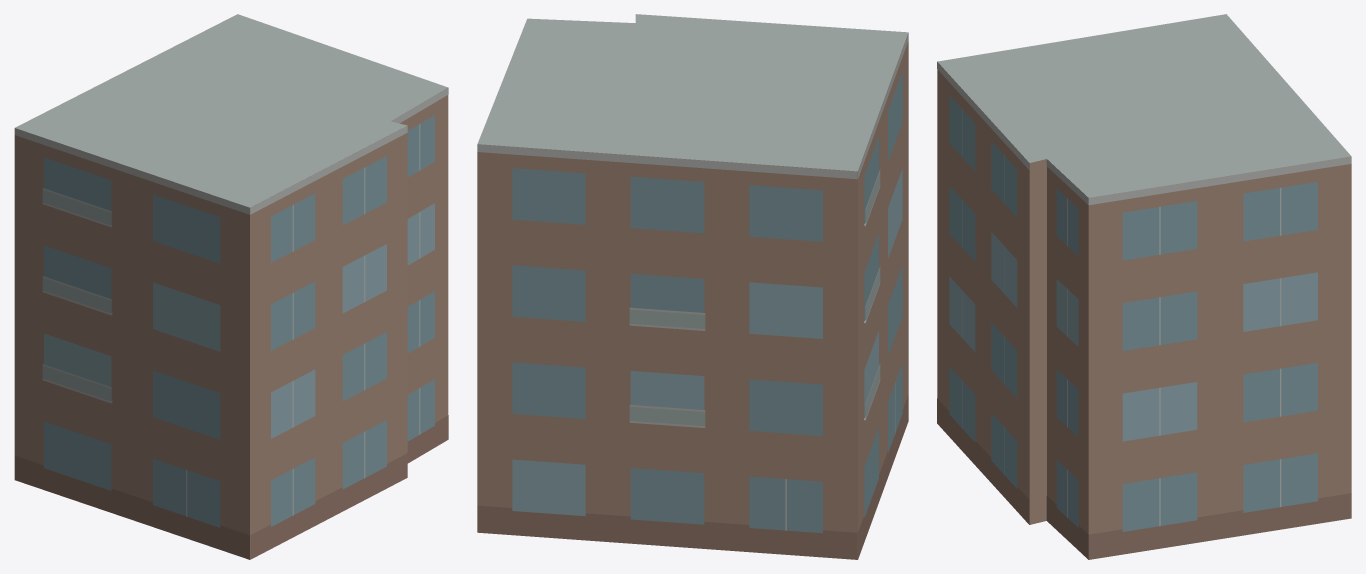
The model's file is survey-upis-32864793.glb.
The picture shows the model from 3 angles, left to right: view 1: azimuth 30°, elevation 25°; view 2: azimuth 150°, elevation 25°; view 3: azimuth 270°, elevation 25°; orthographic projection. The views are drawn at different scales.
Visible parts, largest first — view 1: survey-upis-32864793.tmp; view 2: survey-upis-32864793.tmp; view 3: survey-upis-32864793.tmp.
Boxes of the visible parts, x1,y1,x2,y2 form: survey-upis-32864793.tmp: (14, 14, 448, 559); survey-upis-32864793.tmp: (477, 14, 908, 559); survey-upis-32864793.tmp: (937, 14, 1351, 559).
Bounding box in the file's own units: 13.14 × 12.05 × 12.52.
